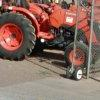Tractor: (3, 3, 91, 74)
